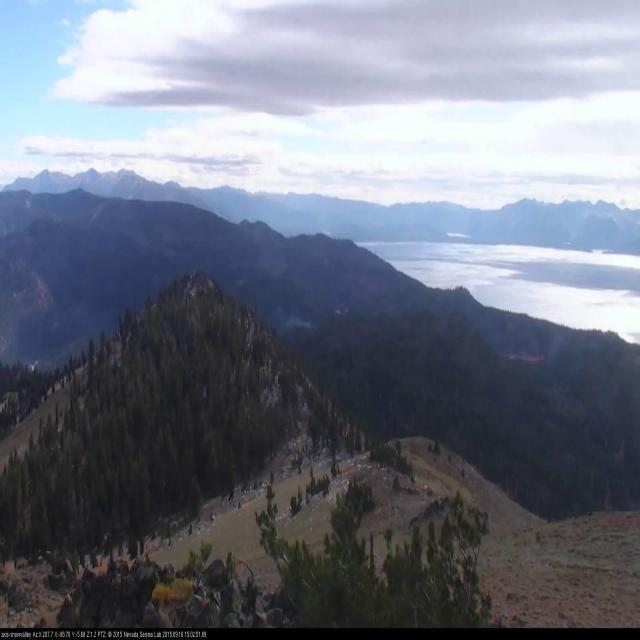smoke: (270, 300, 321, 333)
